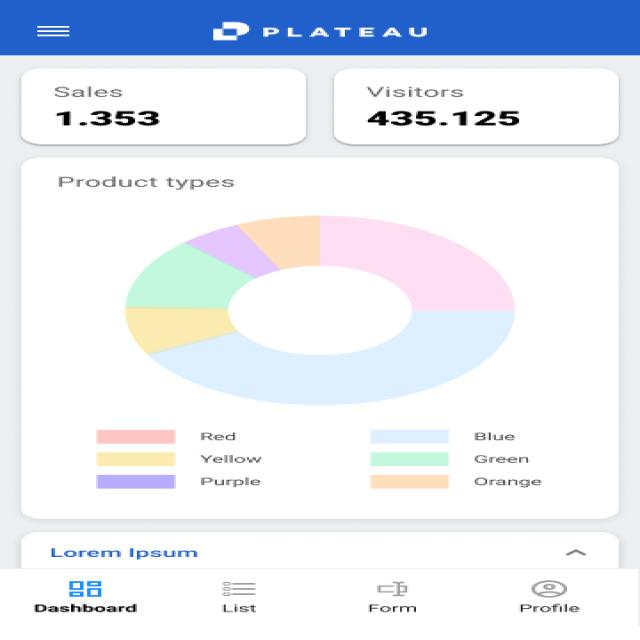Doughnut: (50, 172, 565, 496)
QLabel: (364, 107, 526, 128), (48, 107, 176, 131), (45, 545, 206, 561), (361, 82, 469, 100), (29, 601, 142, 618), (46, 81, 130, 101), (516, 602, 584, 615), (363, 602, 422, 615), (212, 601, 263, 614)
VAppBar: (0, 0, 640, 57)
VBottomNavigation: (0, 569, 638, 640)
VBtn: (23, 573, 150, 622), (508, 575, 593, 620), (350, 575, 434, 620), (199, 574, 277, 618)
VCard: (16, 157, 624, 522), (332, 67, 621, 145), (17, 530, 623, 567), (21, 68, 308, 146)
VIcon: (30, 20, 80, 40), (366, 579, 418, 598), (217, 580, 266, 600), (64, 576, 107, 598), (529, 578, 570, 599), (562, 545, 593, 560)
VImg: (204, 18, 436, 45)
